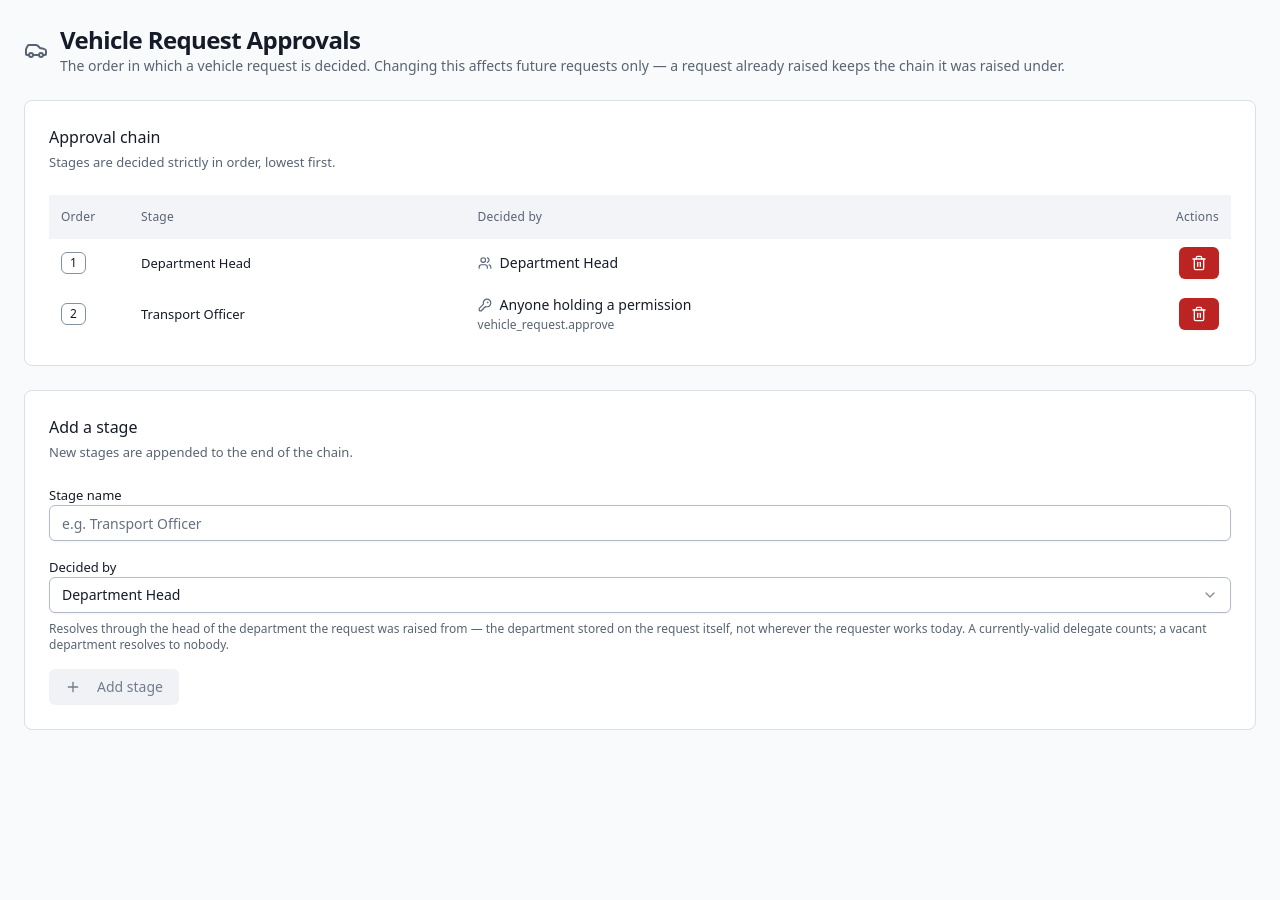
Scenario: Vehicle approval chain — naming a person › offers a member picker, never a box to type a database id into
Click the dropdown with test id "select-stage-resolver" at (121, 594), box 49,577 -> 1231,613
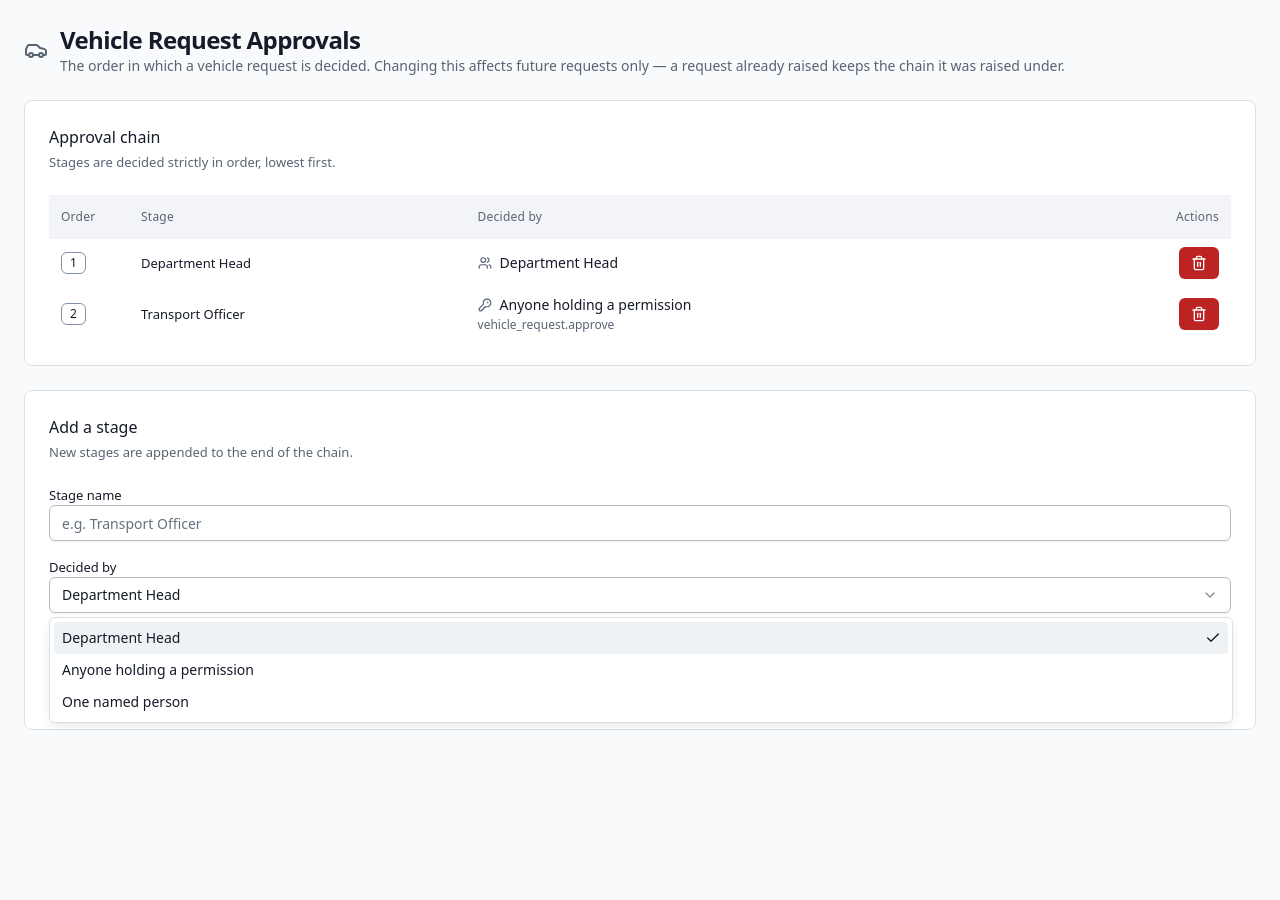
Click the option "One named person" at (126, 702), box 62,692 -> 189,711
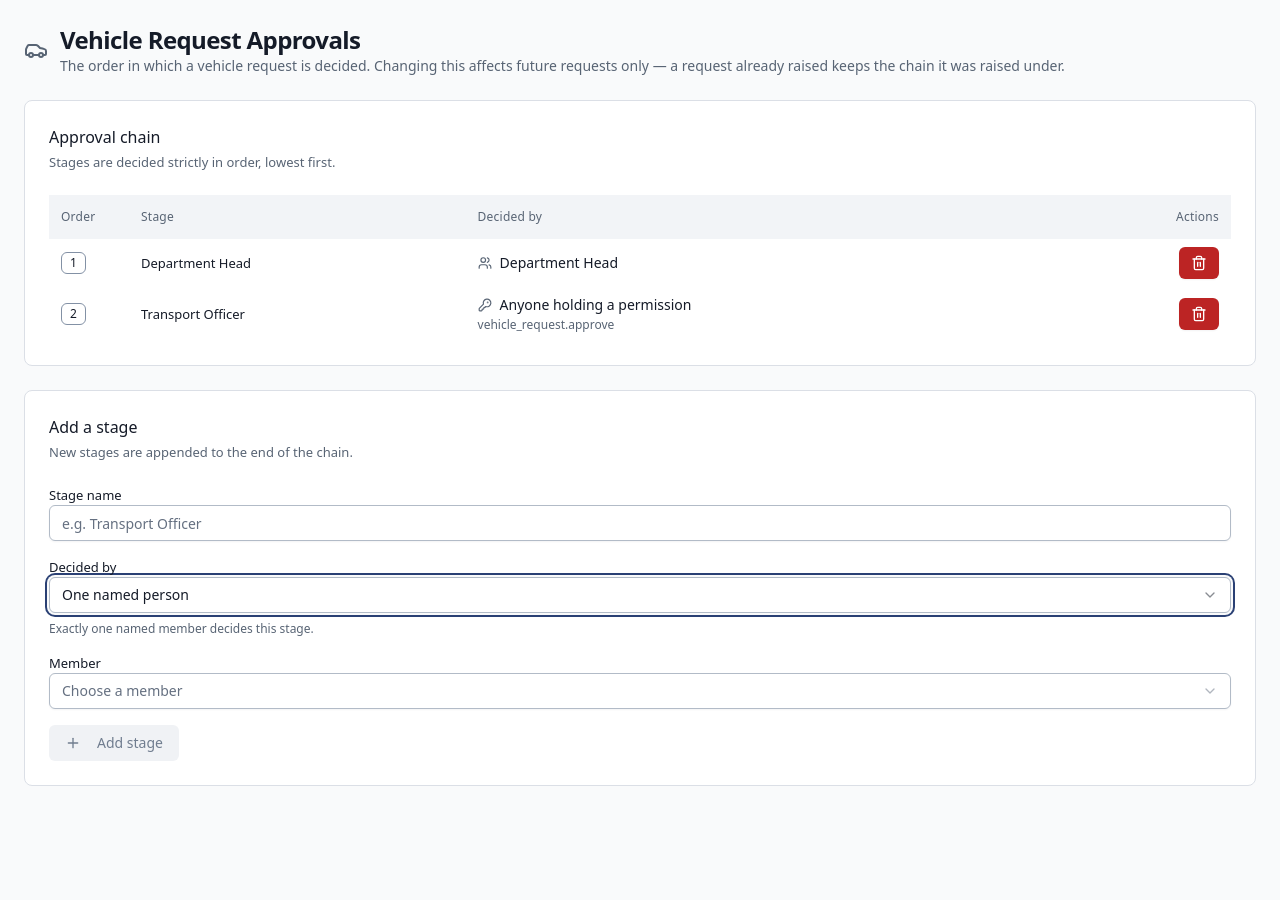
Check: the dropdown with test id "select-stage-membership" is shown, box 49,673 -> 1231,709
